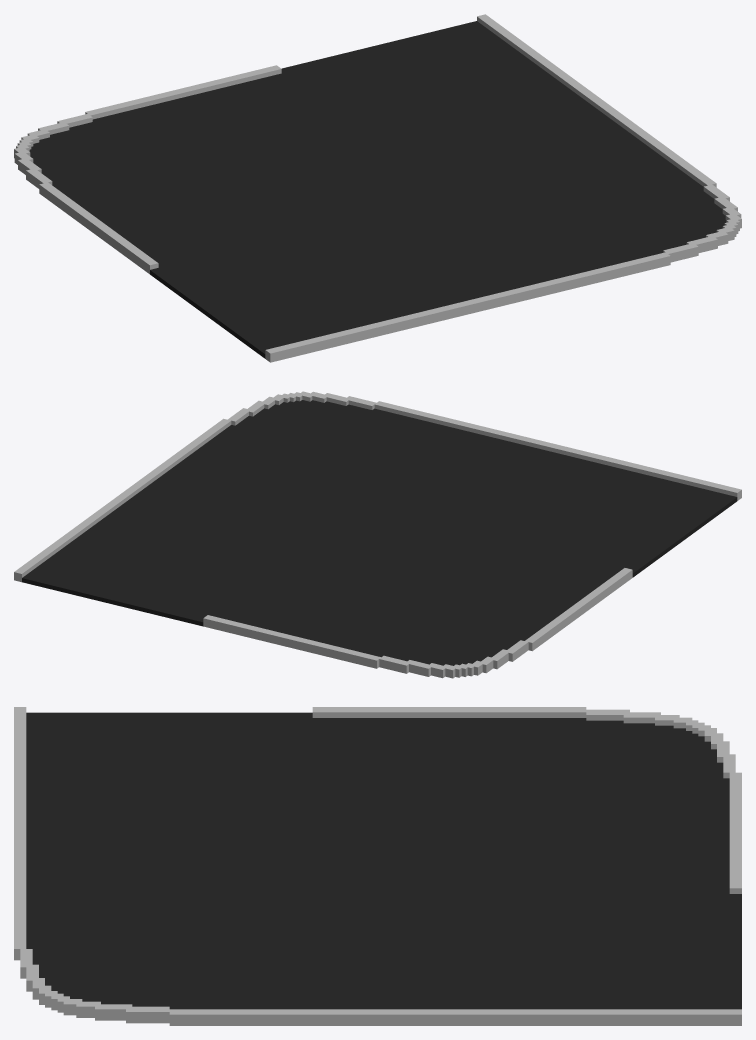
File: All-11-Road_Curve.obj
3 views of the same model, one above another, from view 1: azimuth 30°, elevation 25°; view 2: azimuth 150°, elevation 25°; view 3: azimuth 270°, elevation 25° (orthographic). The views are drawn at different scales.
Parts seen in each view (by area): view 1: Road_Curve; view 2: Road_Curve; view 3: Road_Curve.
Part boxes in pixels (<box>): Road_Curve: <box>14,14,741,362</box>; Road_Curve: <box>14,391,741,678</box>; Road_Curve: <box>14,707,741,1025</box>.
Bounding box in the file's own units: 11.7 × 0.2 × 11.7.
1 material, 1 textured.
